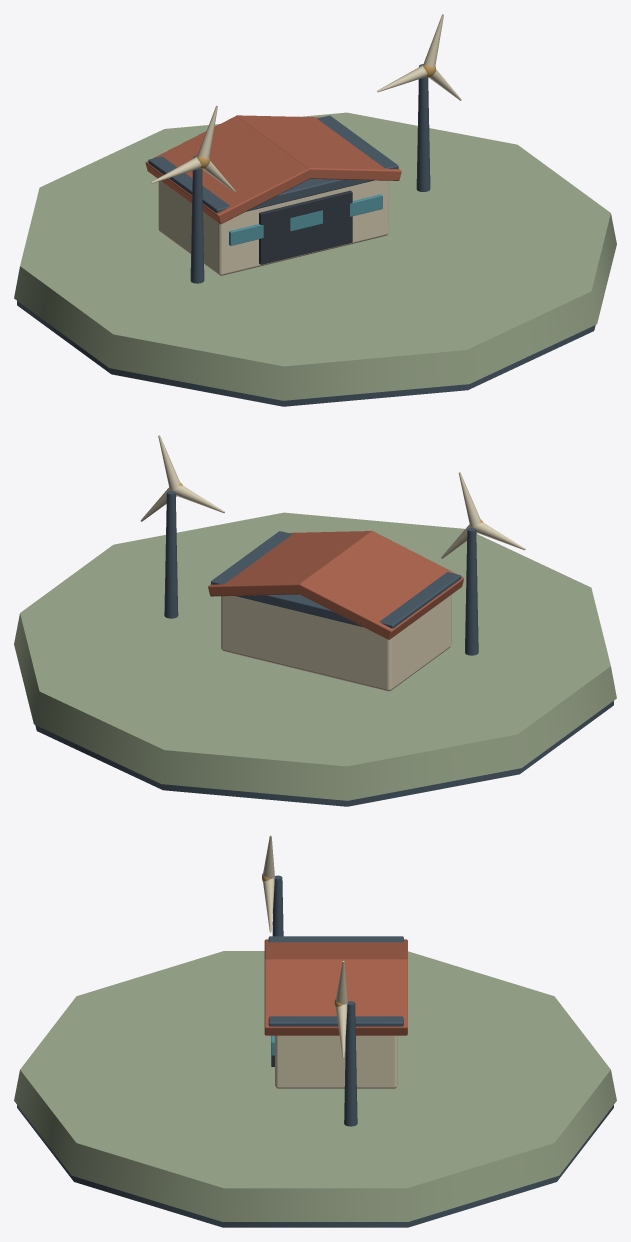
File: windharp.glb
3 views of the same model, one above another, from view 1: azimuth 30°, elevation 25°; view 2: azimuth 150°, elevation 25°; view 3: azimuth 270°, elevation 25° (orthographic). The views are drawn at different scales.
Visible parts, largest first — view 1: Terrain cutaway, Folded hangar roof (×2), Habitat pressure shell, Hangar opening, Substrate, Roof slab, Turbine tower (×2), Forward window; view 2: Terrain cutaway, Folded hangar roof (×2), Habitat pressure shell, Substrate, Roof slab, Turbine tower (×2); view 3: Terrain cutaway, Folded hangar roof (×2), Habitat pressure shell, Substrate, Roof slab, Turbine tower (×2).
Boxes of the visible parts, x1=… form: Terrain cutaway: x1=14, y1=112, x2=616, y2=400; Folded hangar roof (×2): x1=145, y1=115, x2=401, y2=224; Habitat pressure shell: x1=158, y1=180, x2=388, y2=275; Hangar opening: x1=259, y1=190, x2=352, y2=264; Substrate: x1=17, y1=301, x2=595, y2=406; Roof slab: x1=148, y1=115, x2=398, y2=212; Turbine tower (×2): x1=190, y1=64, x2=430, y2=283; Forward window: x1=229, y1=224, x2=263, y2=245; Terrain cutaway: x1=14, y1=512, x2=616, y2=800; Folded hangar roof (×2): x1=208, y1=530, x2=463, y2=639; Habitat pressure shell: x1=221, y1=595, x2=451, y2=691; Substrate: x1=35, y1=701, x2=613, y2=806; Roof slab: x1=211, y1=531, x2=461, y2=628; Turbine tower (×2): x1=164, y1=490, x2=478, y2=655; Terrain cutaway: x1=14, y1=951, x2=616, y2=1221; Folded hangar roof (×2): x1=264, y1=939, x2=407, y2=1035; Habitat pressure shell: x1=275, y1=1035, x2=397, y2=1088; Substrate: x1=17, y1=1105, x2=613, y2=1227; Roof slab: x1=268, y1=936, x2=403, y2=1026; Turbine tower (×2): x1=272, y1=875, x2=357, y2=1126.
Size of the model in its own units: 5.52 by 2.27 by 5.8.
